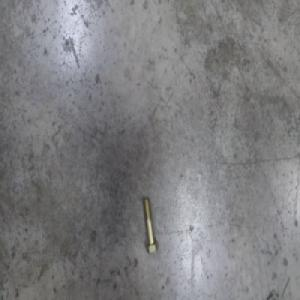Bolt: (141, 197, 159, 255)
